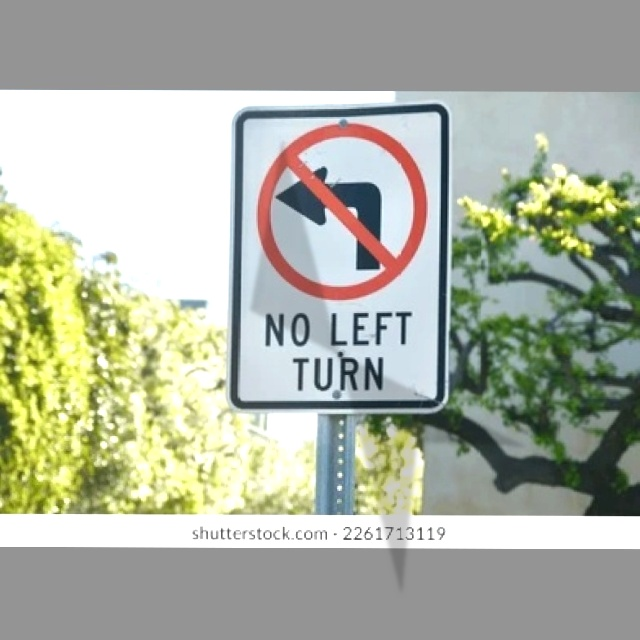Left_Turn_Prohibited: (249, 120, 432, 306)
